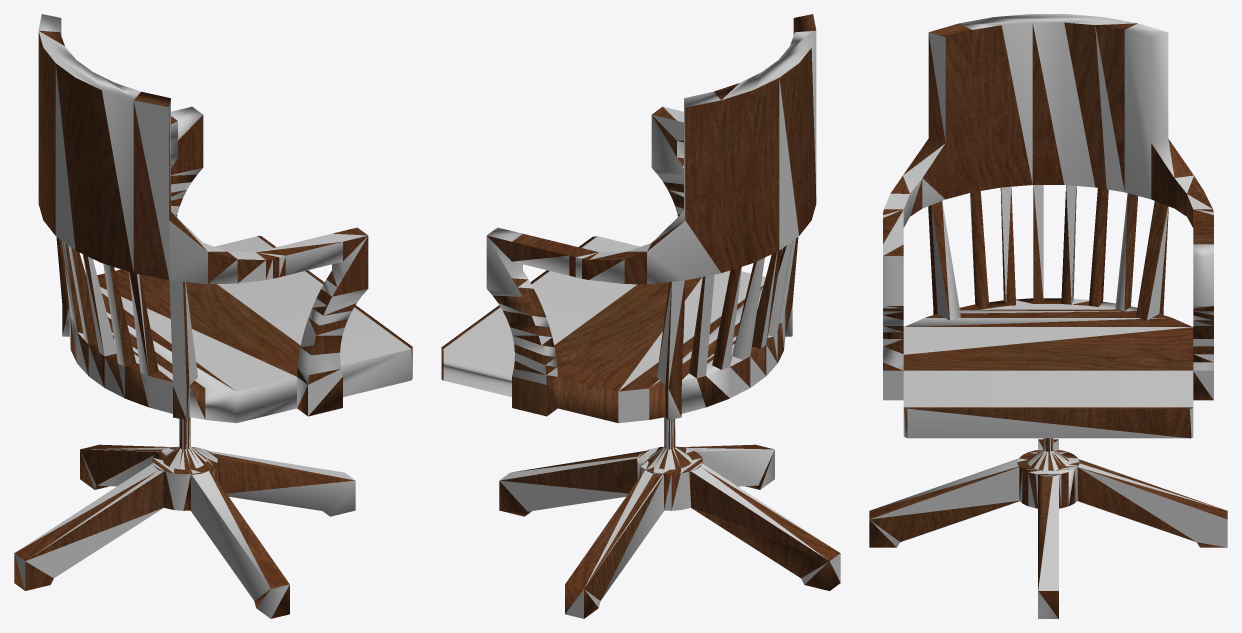
File: body.obj
The picture shows the model from 3 angles, left to right: view 1: azimuth 30°, elevation 25°; view 2: azimuth 150°, elevation 25°; view 3: azimuth 270°, elevation 25°; orthographic projection. The views are drawn at different scales.
Parts seen in each view (by area): view 1: mesh1.001_mesh1-geometry; view 2: mesh1.001_mesh1-geometry; view 3: mesh1.001_mesh1-geometry.
Part boxes in pixels (bbox=[...]): mesh1.001_mesh1-geometry: bbox=[14, 14, 412, 618]; mesh1.001_mesh1-geometry: bbox=[441, 14, 840, 618]; mesh1.001_mesh1-geometry: bbox=[869, 14, 1227, 618].
Bounding box in the file's own units: 0.4917 × 0.7186 × 0.4917.
